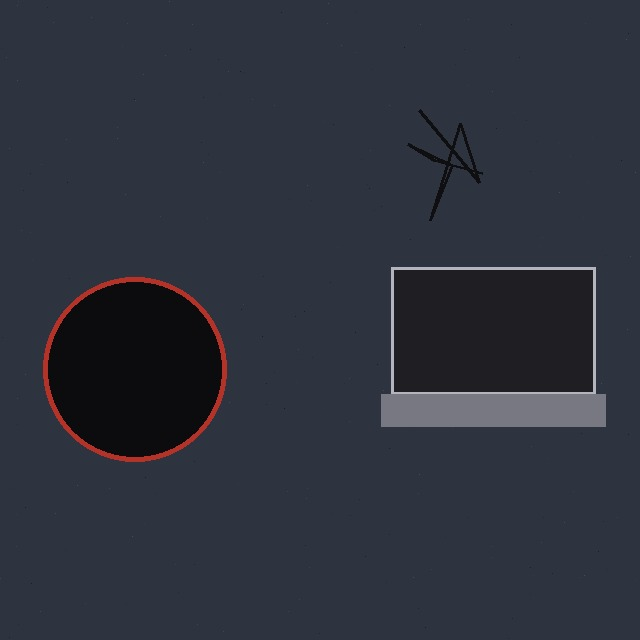crocodile_crack: (400, 87, 483, 244)
laptop: (391, 267, 595, 426)
open_manhole: (43, 277, 226, 461)
